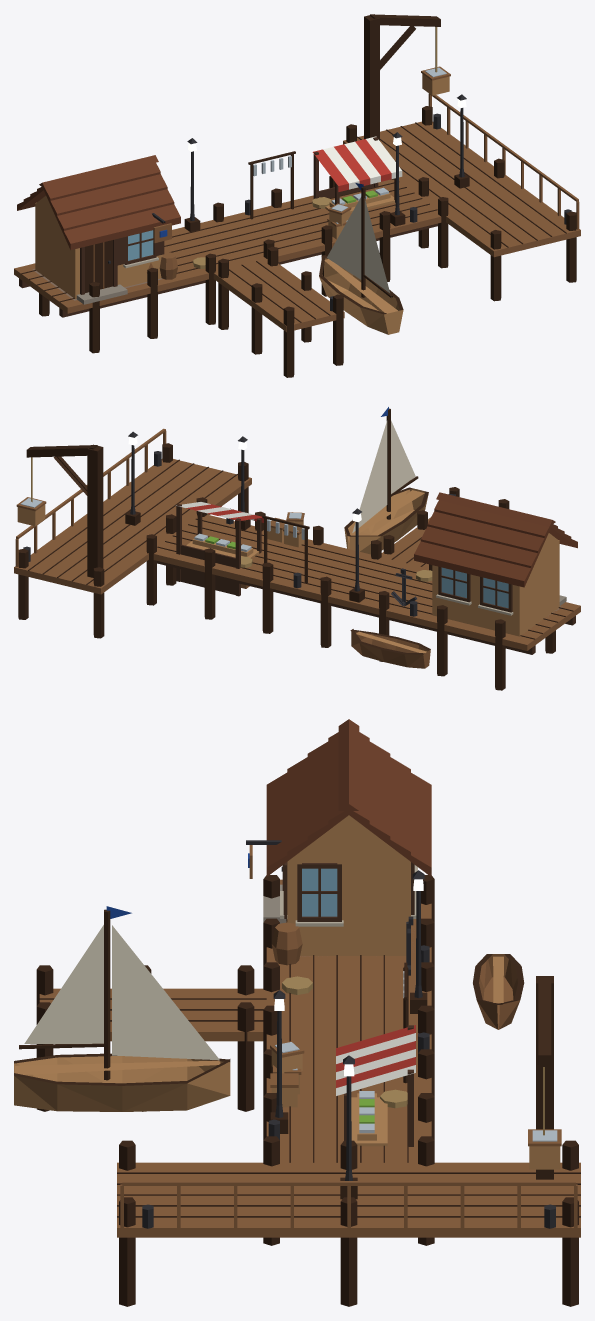
Rendered from harbor.fbx.
3 renders of one model, top to bottom at view 1: azimuth 30°, elevation 25°; view 2: azimuth 150°, elevation 25°; view 3: azimuth 270°, elevation 25°, orthographic. The views are drawn at different scales.
Visible parts, largest first — view 1: harbor; view 2: harbor; view 3: harbor.
Boxes of the visible parts, x1,y1,x2,y2 form: harbor: [14, 14, 580, 377]; harbor: [14, 407, 580, 690]; harbor: [14, 719, 580, 1306].
Size of the model in its own units: 16.12 by 5.95 by 11.
